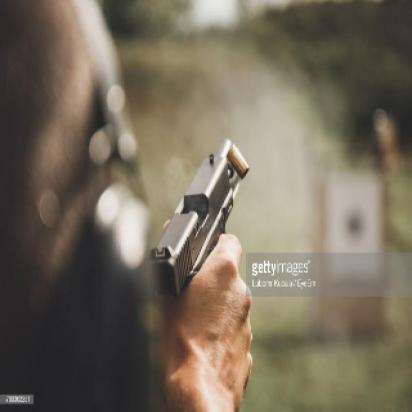Gun: (140, 134, 250, 302)
